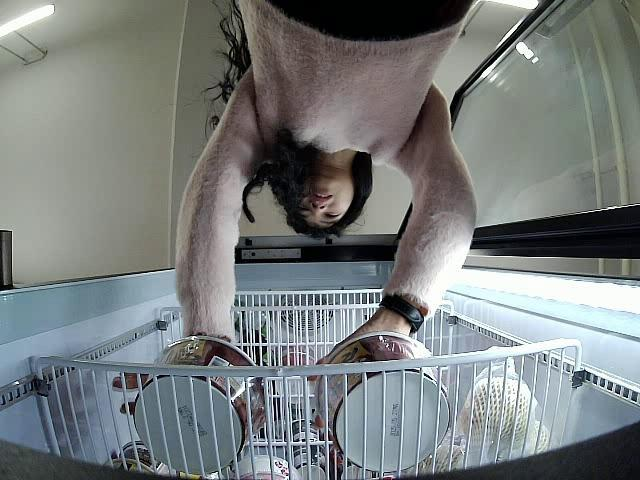05_nuguri_L: (314, 332, 451, 470), (133, 338, 269, 476)
